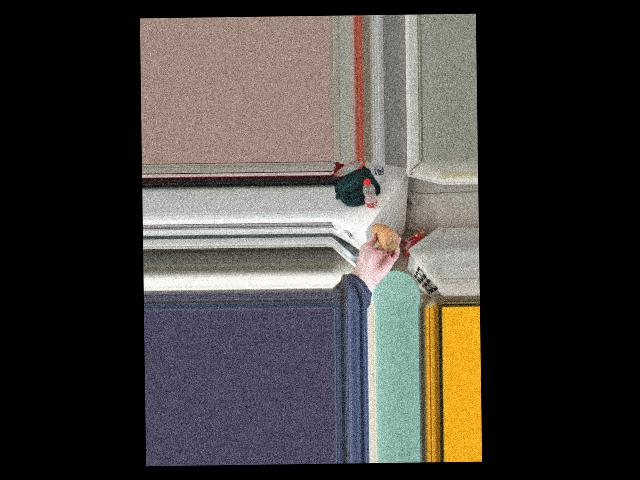sweet_potato: (368, 223, 396, 255)
